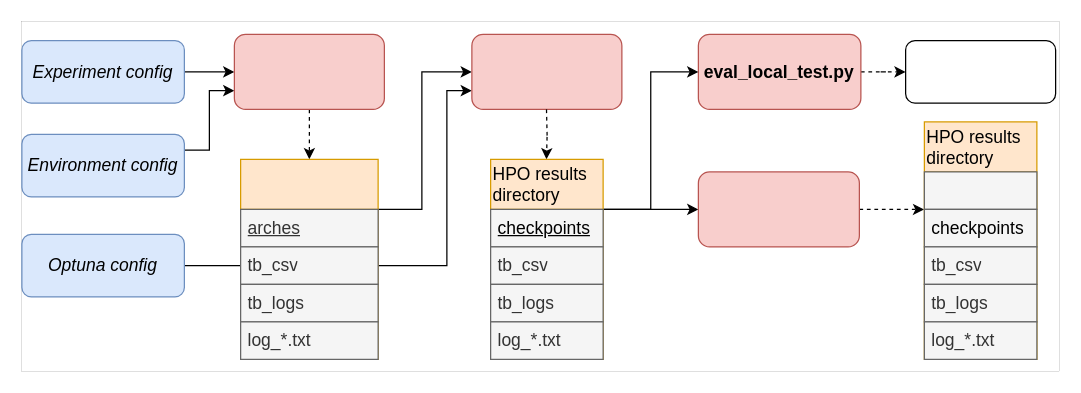
This 1081x393 diagram has some shape labels left out. The shapes that lost their labels are listed below. From the top down, each one's box as (x1, y1, x2, y2) in pixels, then its label:
(233, 33, 384, 109): search.py
(471, 33, 622, 109): train_final.py
(904, 39, 1056, 103): Prints val/test scoring metric
(697, 171, 859, 247): eval_amex.py
(923, 171, 1037, 209): submissions
(239, 158, 378, 359): Searcher results directory
